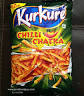kurkure: (15, 7, 69, 24)
plastic: (10, 2, 74, 88)
